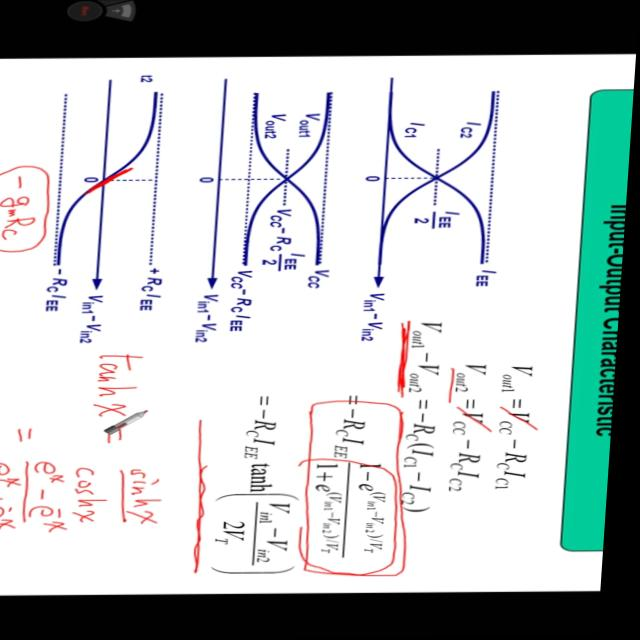panseo: (0, 346, 205, 550)
